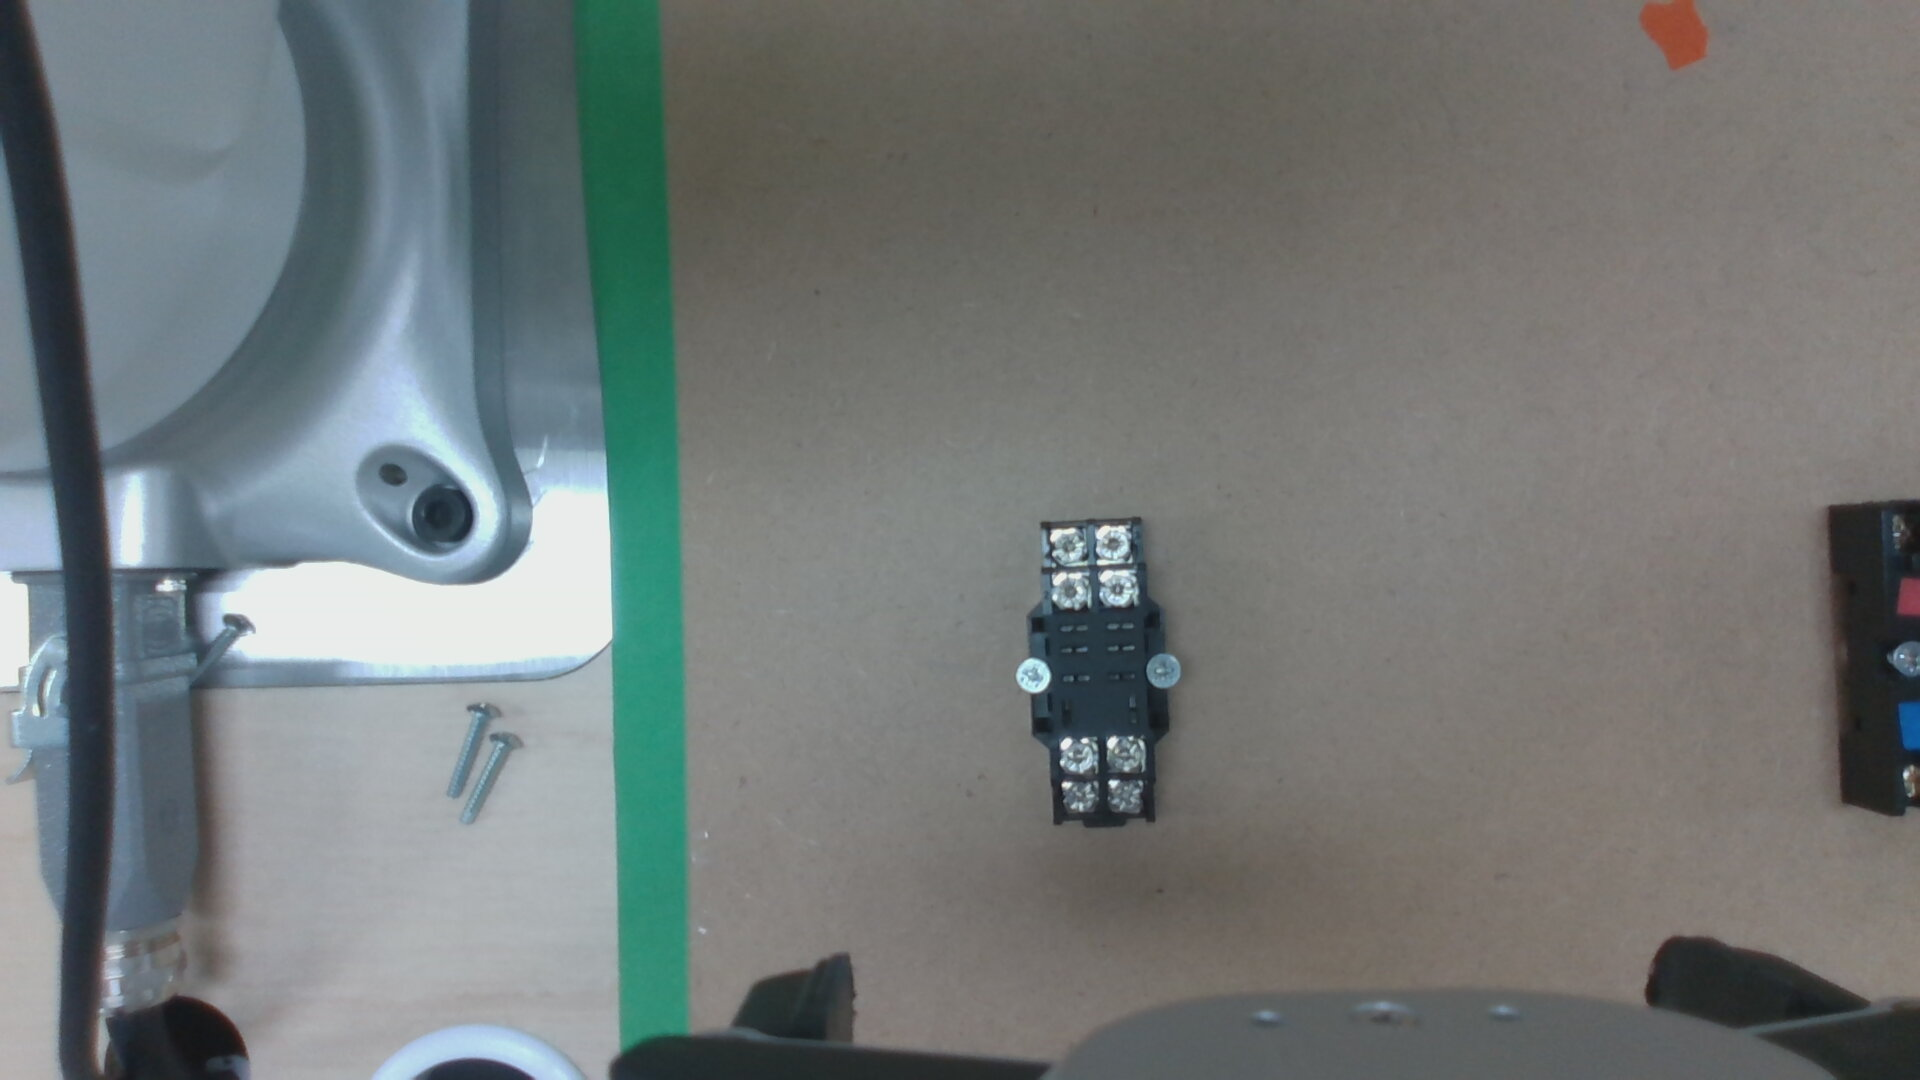relay 3: (1097, 527, 1129, 559)
relay 4: (1048, 531, 1084, 562)
relay 5: (1108, 779, 1141, 811)
relay 6: (1062, 785, 1096, 811)
relay 7: (1106, 738, 1142, 767)
relay 8: (1060, 741, 1096, 770)
